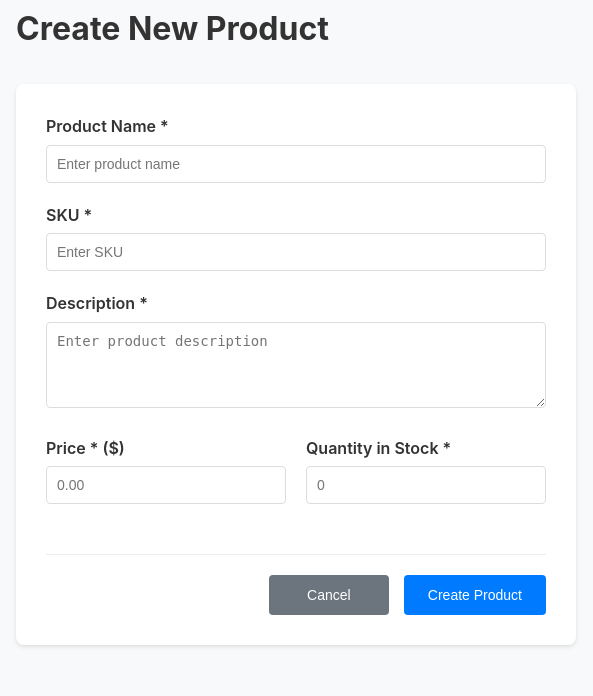
Test: ProductForm › should show validation errors for empty required fields
The image size is (593, 696).
Click the button with test id "submit-btn": (475, 595) [404,575,546,615]
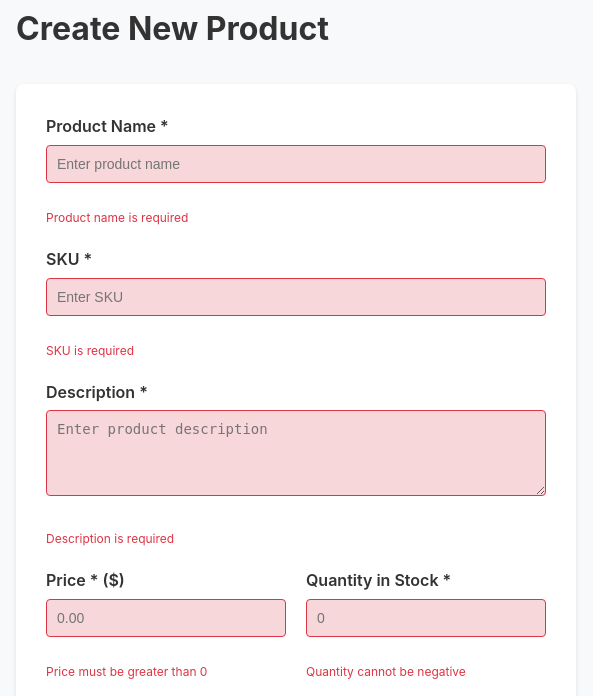
Check: the text "Product name is required" is shown, box [46,210,188,225]
Check: the text "SKU is required" is shown, box [46,343,134,358]
Check: the text "Description is required" is shown, box [46,531,174,546]
